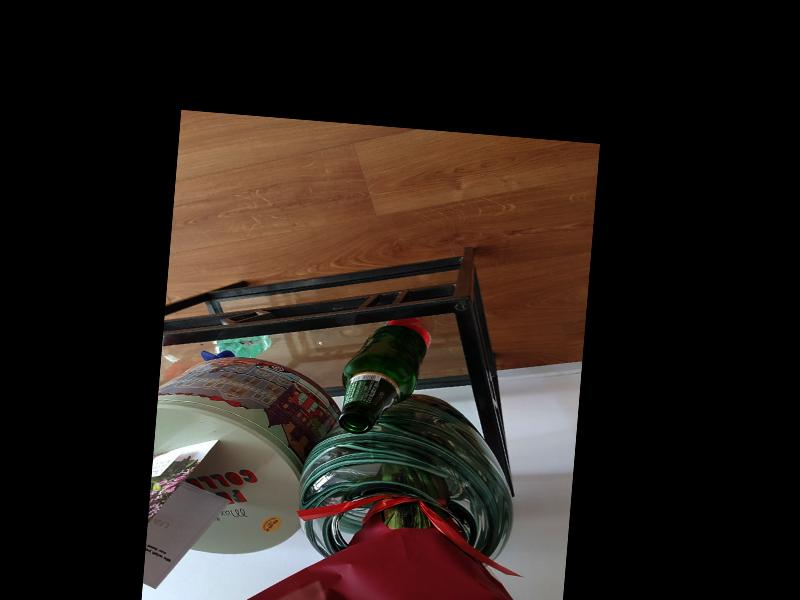Beer: (337, 321, 429, 438)
